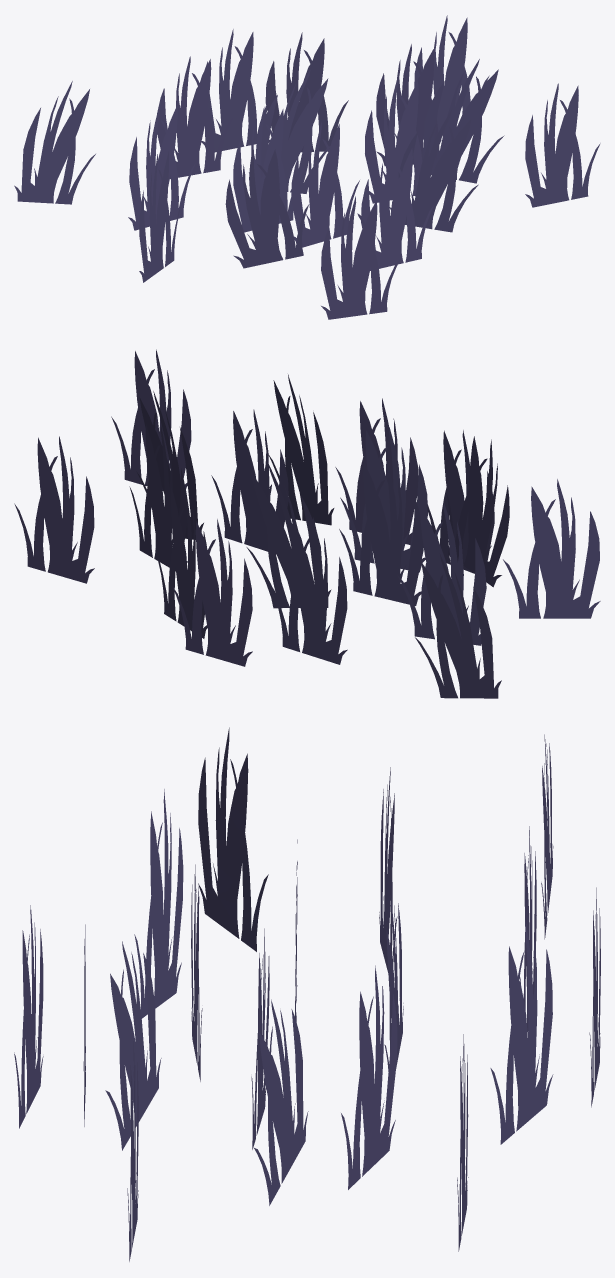
File: grass2.fbx
3 views of the same model, one above another, from view 1: azimuth 30°, elevation 25°; view 2: azimuth 150°, elevation 25°; view 3: azimuth 270°, elevation 25° (orthographic). The views are drawn at different scales.
Parts seen in each view (by area): view 1: grass2; view 2: grass2; view 3: grass2.
Boxes of the visible parts, left/top/right/bottom form: grass2: left=14, top=15, right=600, bottom=319; grass2: left=14, top=349, right=600, bottom=698; grass2: left=14, top=727, right=600, bottom=1261.
Bounding box in the file's own units: 2.7 × 0.9031 × 1.75.
